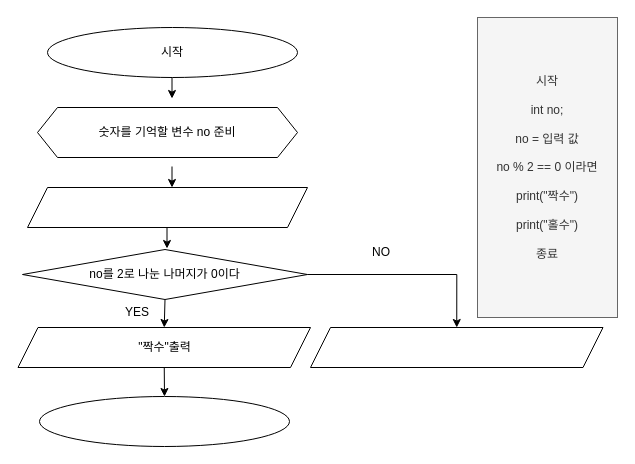
This 635x464 diagram has some shape labels left out. The shapes that lost their labels are listed below. From the top down, each one's centre as x and y in pixels, then its label:
the point at 167,207: no에 정수를 입력받아서 기억
the point at 456,347: "홀수"출력
the point at 164,421: 종료
